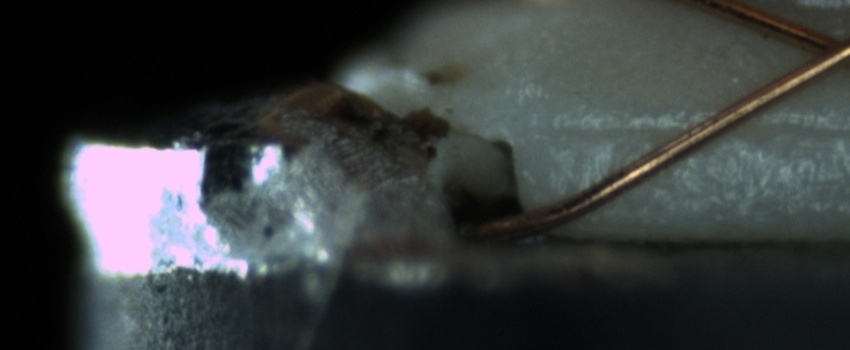CL: (783, 17, 849, 82)
DL: (552, 95, 844, 160)
